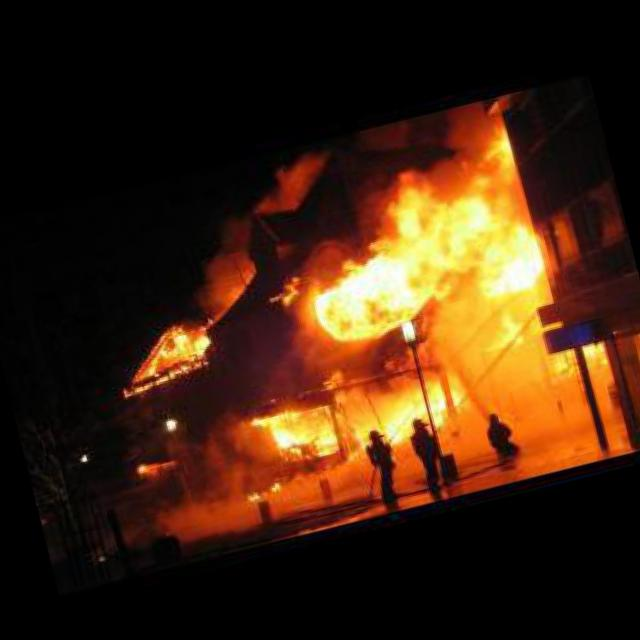fire: (114, 130, 593, 503)
